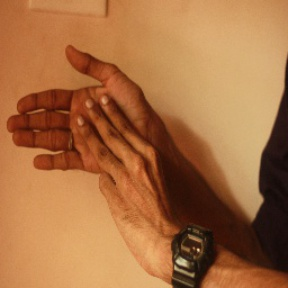M: (5, 42, 159, 181)
